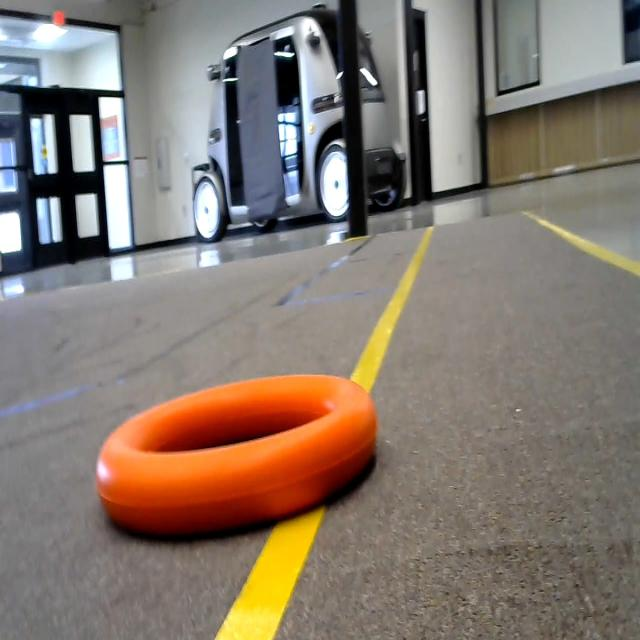note: (82, 365, 406, 544)
